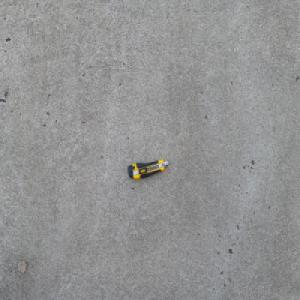Cutter: (127, 159, 168, 179)
